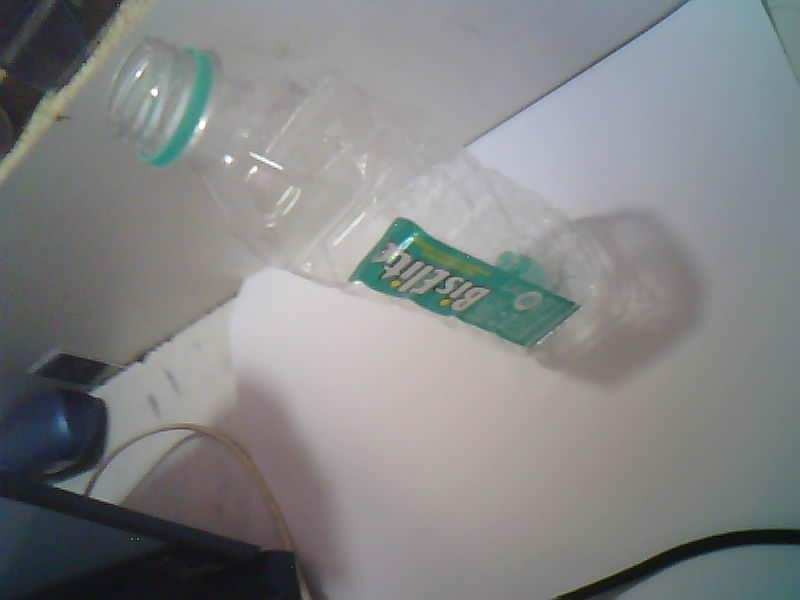non-biodegradable: (110, 38, 618, 353)
